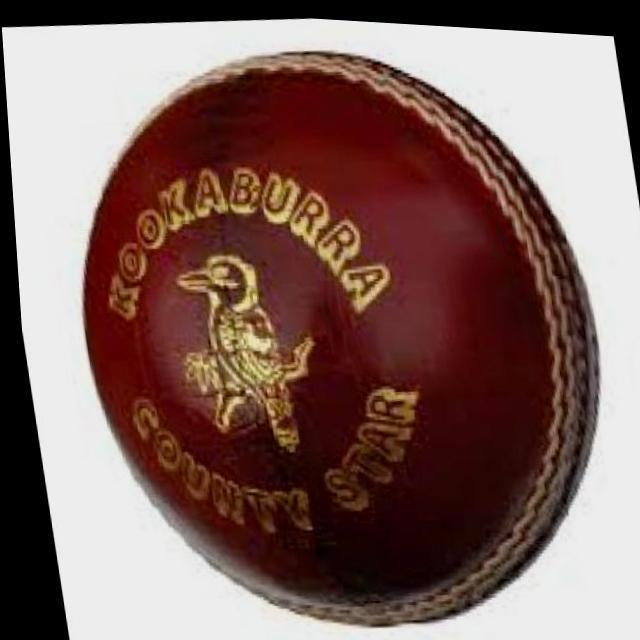Red_Ball: (75, 49, 600, 627)
